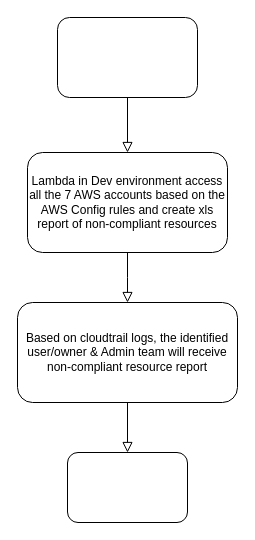
This 255x540 diagram has some shape labels left out. Here are the shapes that lost their labels. From the top down, the box of each, then its label:
(56, 16, 198, 98): Event Bridge scheduled to trigger lambda on weekly basis
(66, 452, 188, 522): User updates the tags on the non-compliant resources
